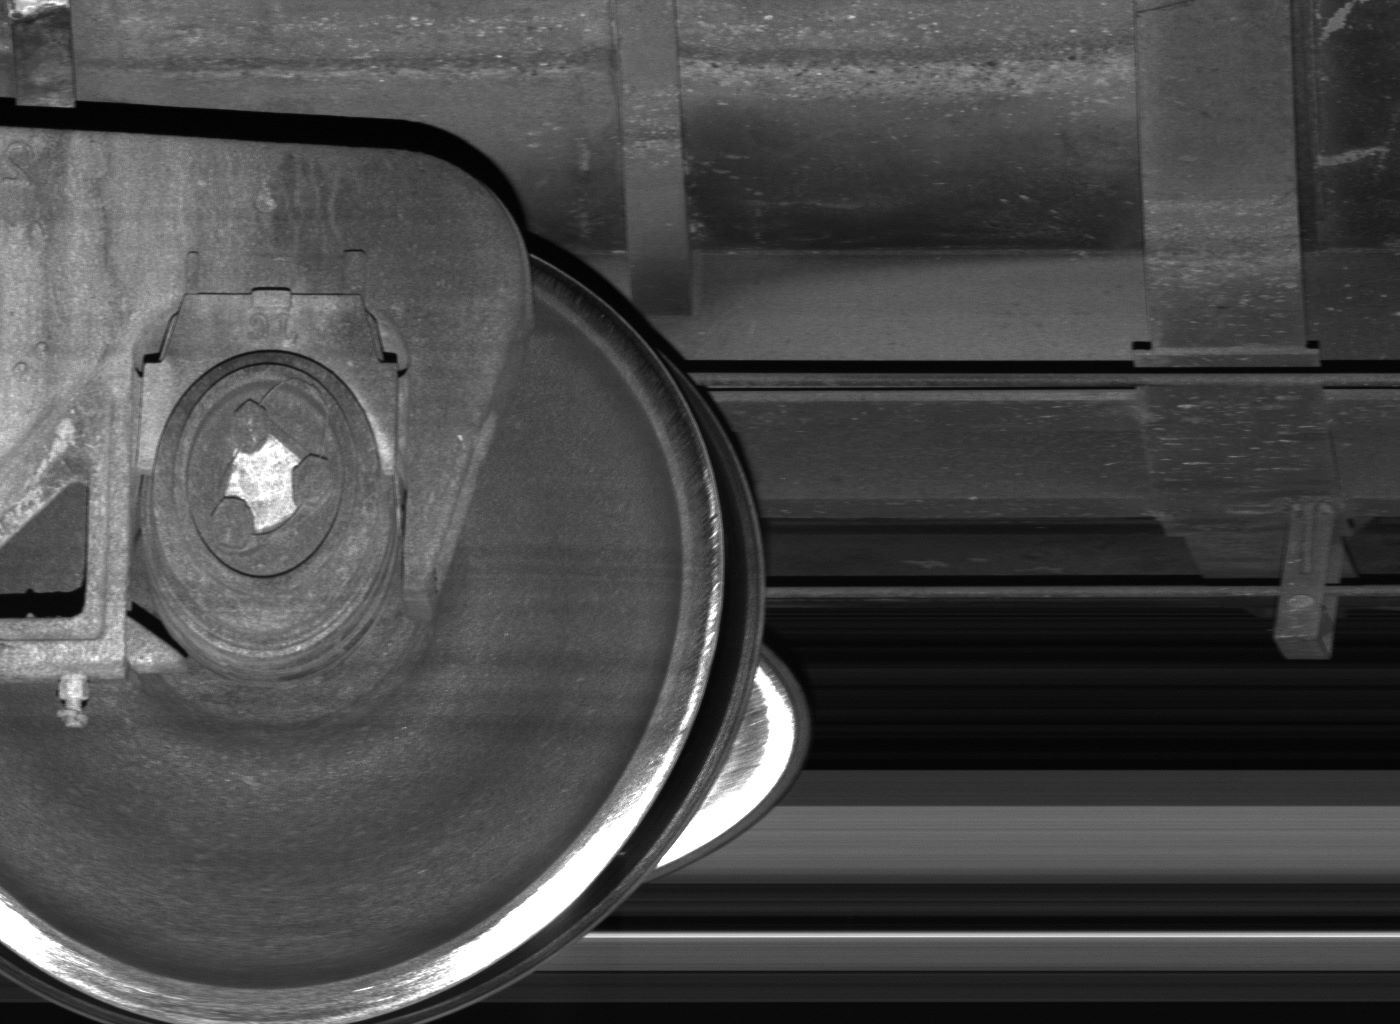normal: (1273, 504, 1343, 662)
